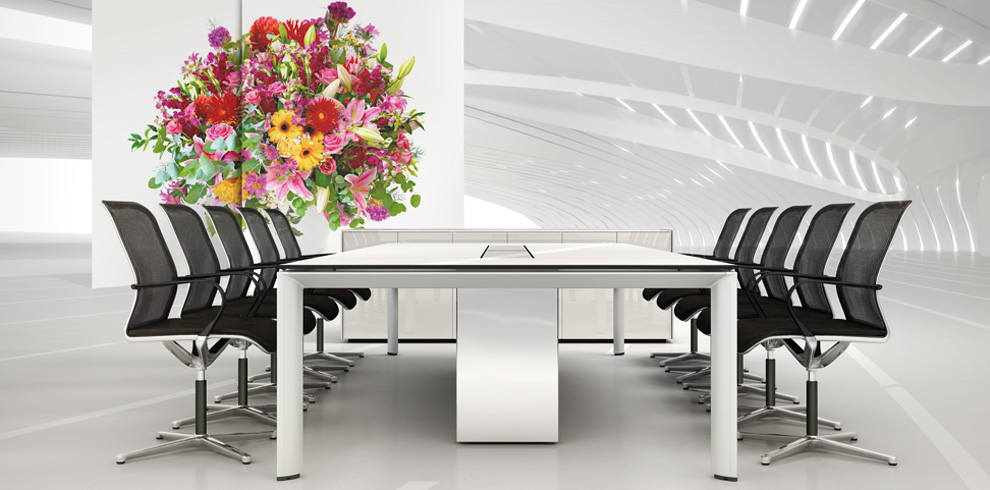conference_table: (275, 242, 737, 481)
